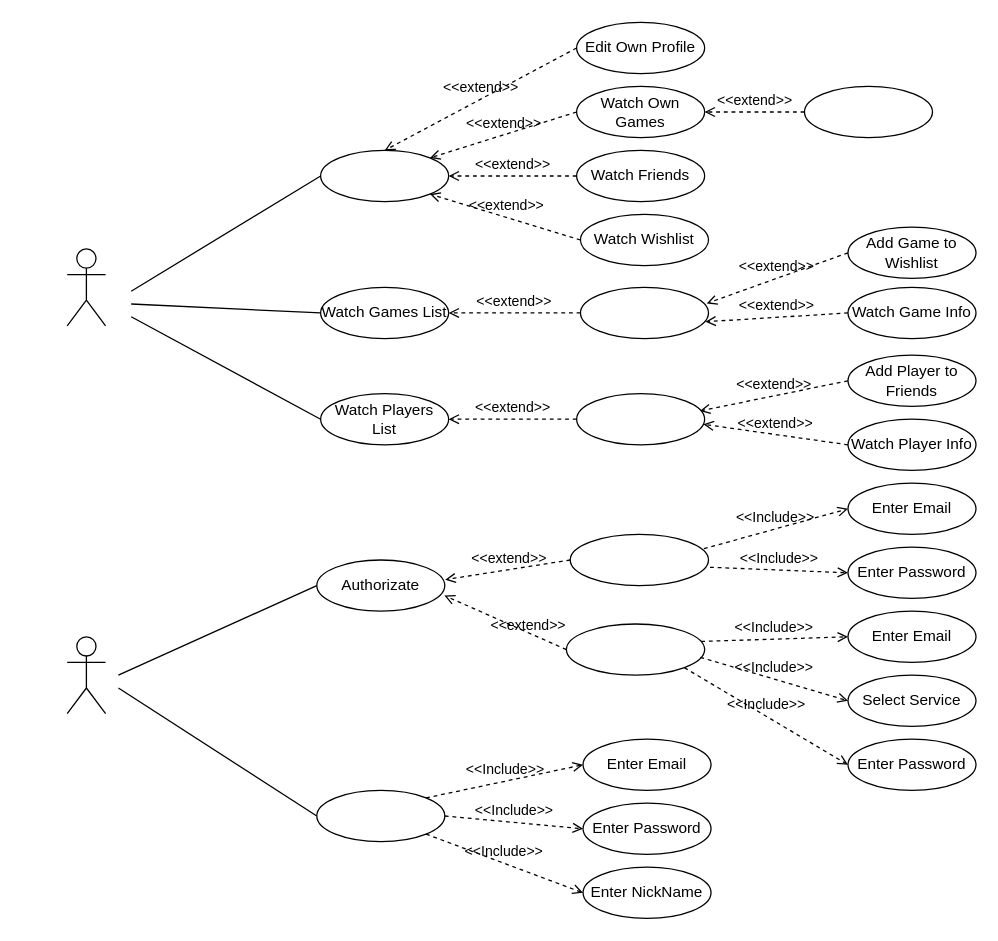
Image size: 998x941. Some labels were removed from this diagram. The centre of each missing label's shape, as x and y in pixels:
"Authorize using another Services" goes at point 635,649.
"Authorize using Email" goes at point 638,559.
"Authorized User" goes at point 86,287.
"Register" goes at point 380,815.
"Select Game" goes at point 643,312.
"Select Player" goes at point 640,418.
"Unauthorized User" goes at point 86,675.
"Watch Games Achievements" goes at point 867,111.
"Watch Own Profile" goes at point 384,175.
